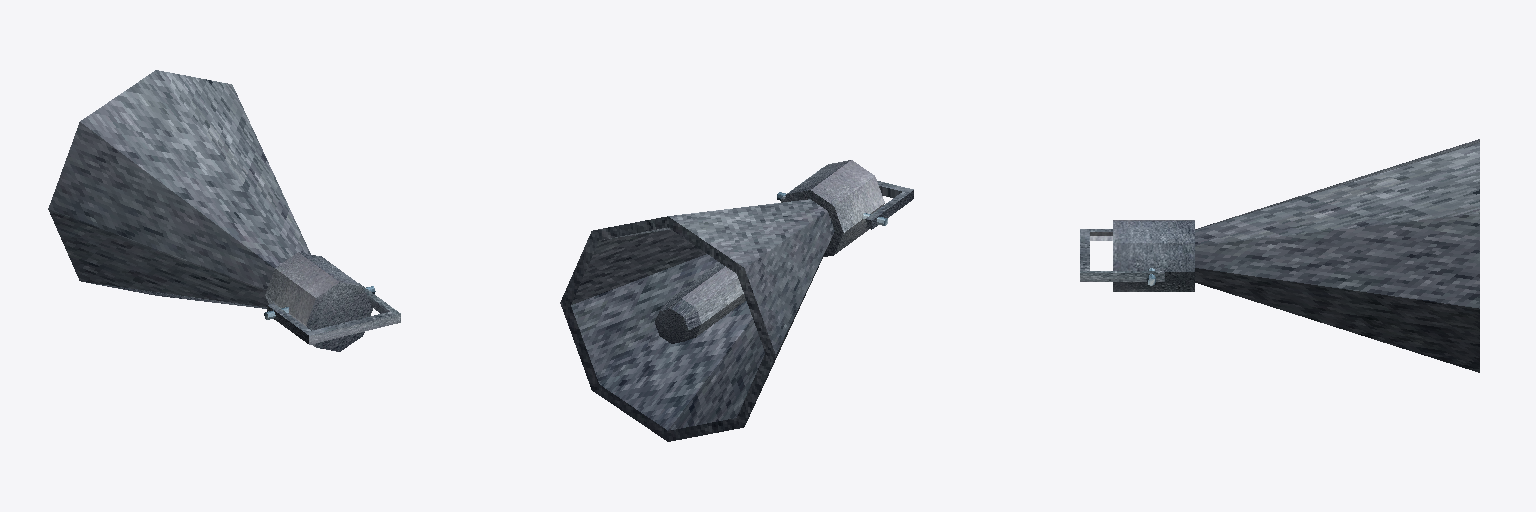
The picture shows the model from 3 angles: view 1: azimuth 30°, elevation 25°; view 2: azimuth 150°, elevation 25°; view 3: azimuth 270°, elevation 25°; orthographic projection.
Visible parts, largest first — view 1: body.001, attachement, u_mount; view 2: body.001, attachement, internal_part, u_mount; view 3: body.001, attachement, u_mount.
Part boxes in pixels (x1,y1,x2,y2): body.001: (48,70,339,317); attachement: (265,252,372,351); u_mount: (267,283,400,344); body.001: (560,199,834,441); attachement: (784,160,884,256); internal_part: (655,263,745,343); u_mount: (781,167,913,229); body.001: (1195,139,1479,372); attachement: (1113,220,1194,291); u_mount: (1080,229,1164,281).
Size of the model in its own units: 2.5 by 2.5 by 4.01.
Materials: 3 (2 with a texture image).